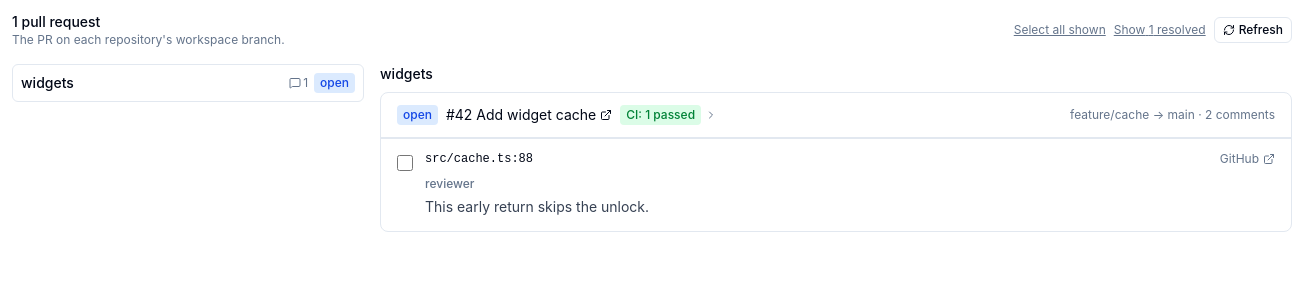
Test: PullRequestsView › CI status › keeps a green PR to a badge, and expands to the full list on click
The width and height of the screenshot is (1304, 305).
Expected: the text "CI: 1 passed" is shown, [620, 105, 701, 125]
Expected: the text "unit" is not shown
Click the button with aria-label "toggle check details".
click(669, 115)  # box [620, 105, 717, 125]
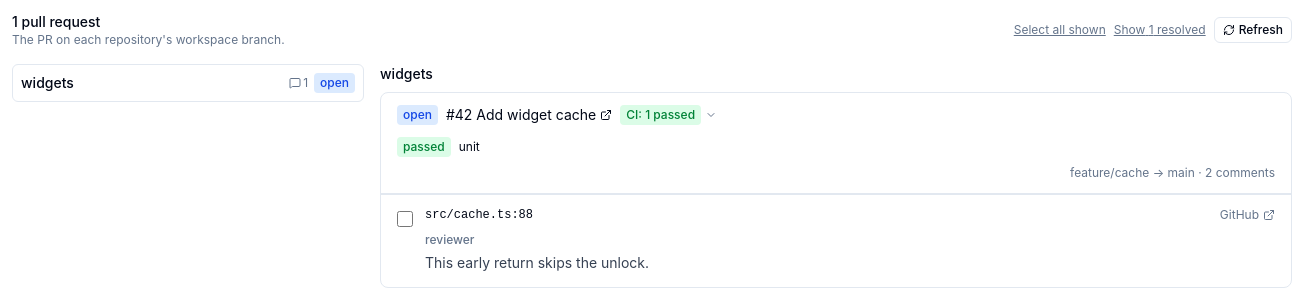
Expected: the text "unit" is shown, [459, 139, 480, 155]
